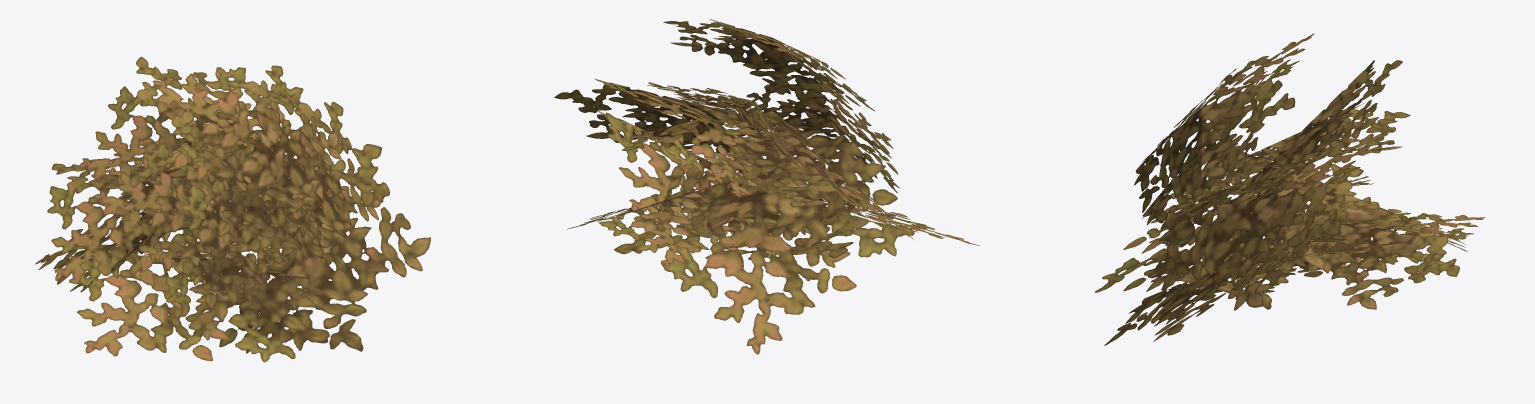
File: cao05.FBX
3 renders of one model, left to right at view 1: azimuth 30°, elevation 25°; view 2: azimuth 150°, elevation 25°; view 3: azimuth 270°, elevation 25°, orthographic. The views are drawn at different scales.
Visible parts, largest first — view 1: cao02; view 2: cao02; view 3: cao02.
Part boxes in pixels (x1=…): cao02: x1=35, y1=56, x2=430, y2=362; cao02: x1=554, y1=19, x2=979, y2=354; cao02: x1=1095, y1=33, x2=1485, y2=345.
Bounding box in the file's own units: 92.44 × 54.89 × 76.46.
